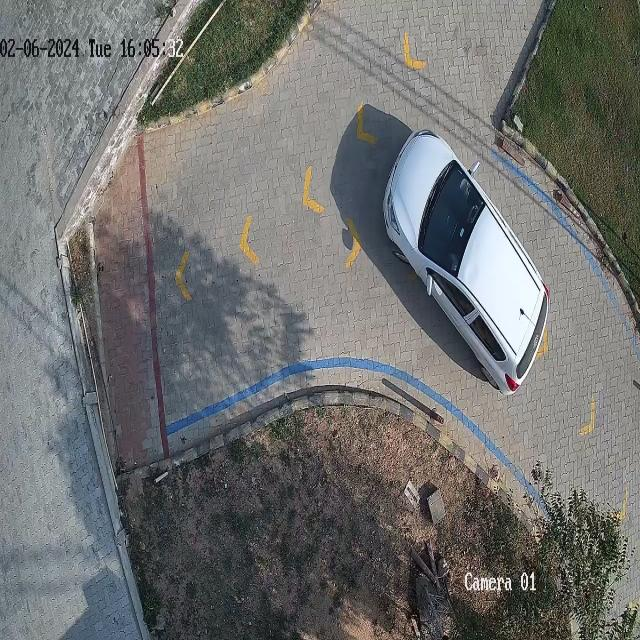car: (384, 132, 550, 393)
